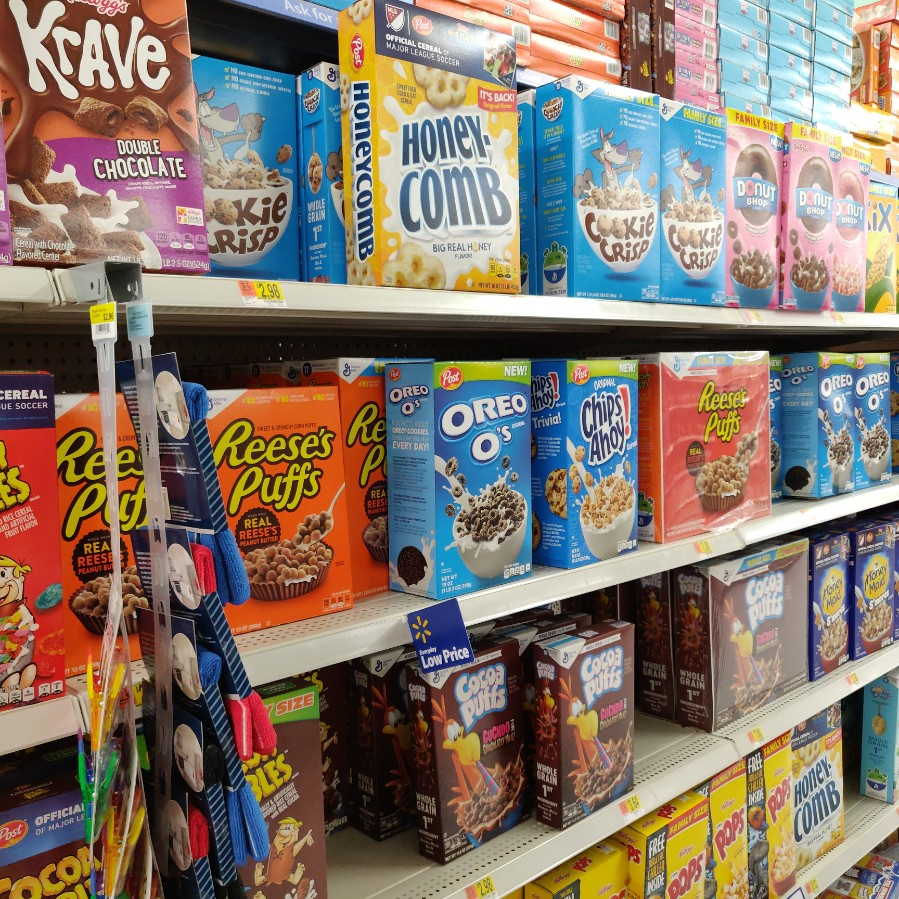Chips Ahoys-565717529: (540, 363, 645, 565)
Honey Comb- 009288857: (339, 5, 525, 296), (788, 715, 850, 871)
Oreo-563424384: (386, 359, 535, 588), (788, 355, 851, 504), (846, 353, 899, 494)
